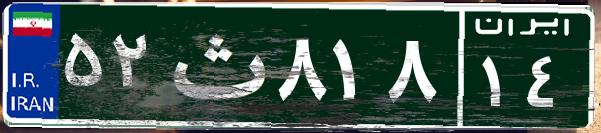1: (330, 28, 385, 110), (475, 38, 525, 113)
2: (110, 28, 158, 105)
4: (525, 38, 570, 115)
5: (57, 26, 110, 107)
8: (385, 28, 445, 110), (273, 28, 330, 110)
ث: (158, 15, 273, 115)
